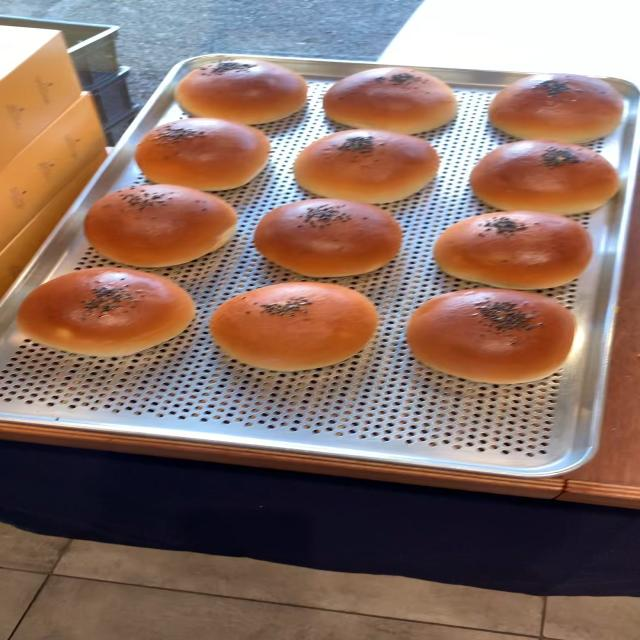bread: (402, 289, 581, 384), (4, 266, 192, 353), (207, 279, 382, 370), (431, 209, 594, 290), (81, 184, 234, 268), (249, 194, 399, 277), (466, 137, 622, 215), (292, 129, 442, 209), (134, 115, 268, 193), (482, 71, 622, 144), (316, 65, 458, 135), (176, 58, 308, 126)
